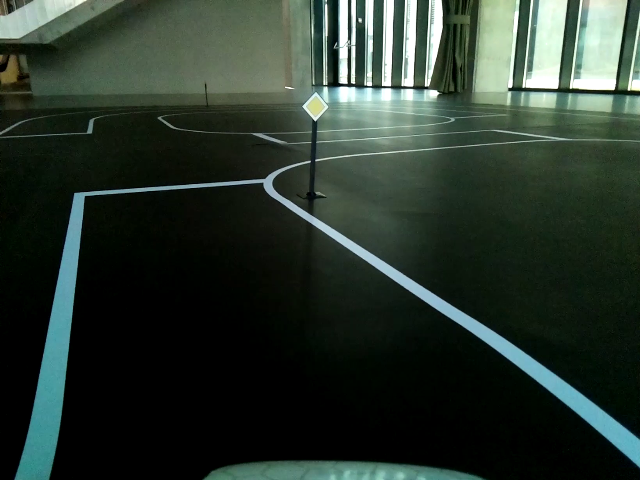priority: (303, 94, 330, 120)
